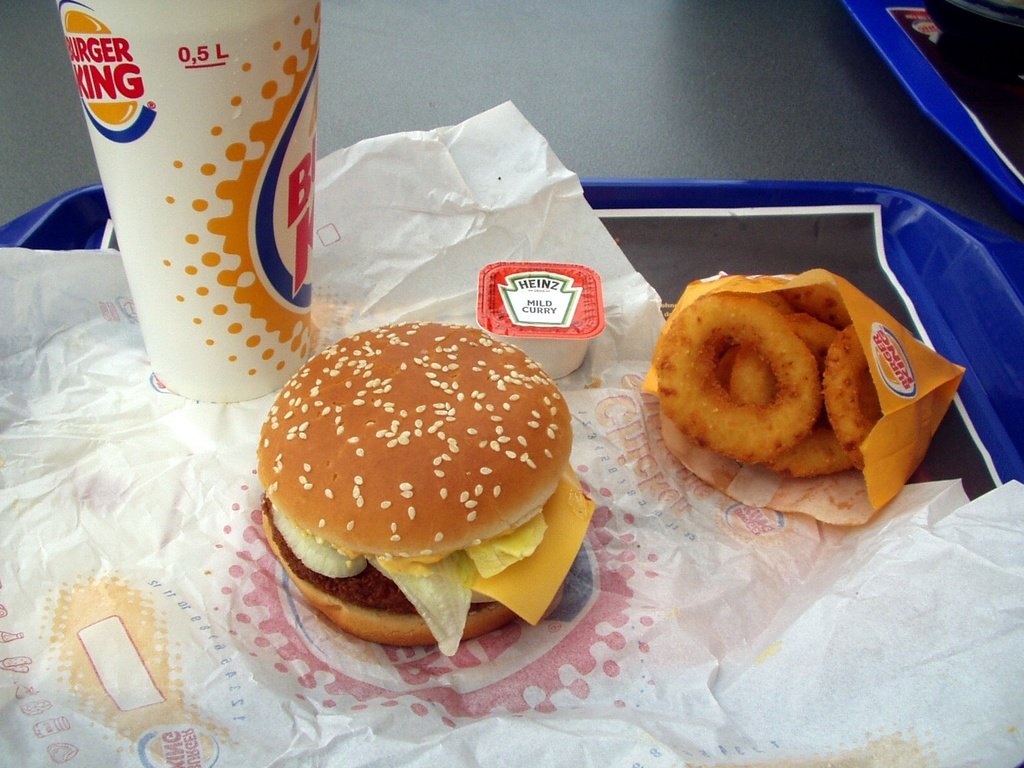Hamburger: (258, 322, 599, 657)
